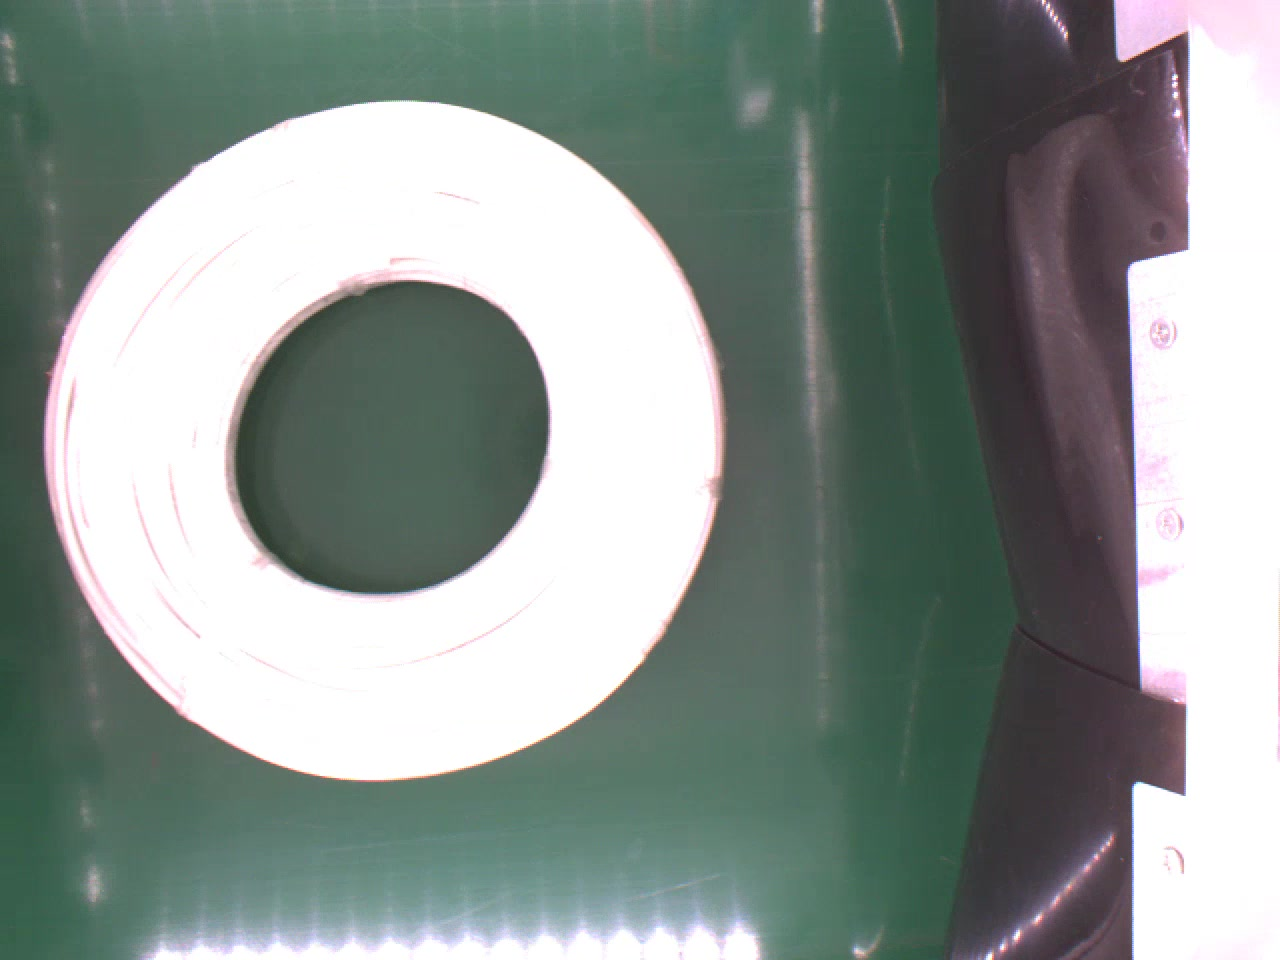white: (42, 94, 726, 787)
